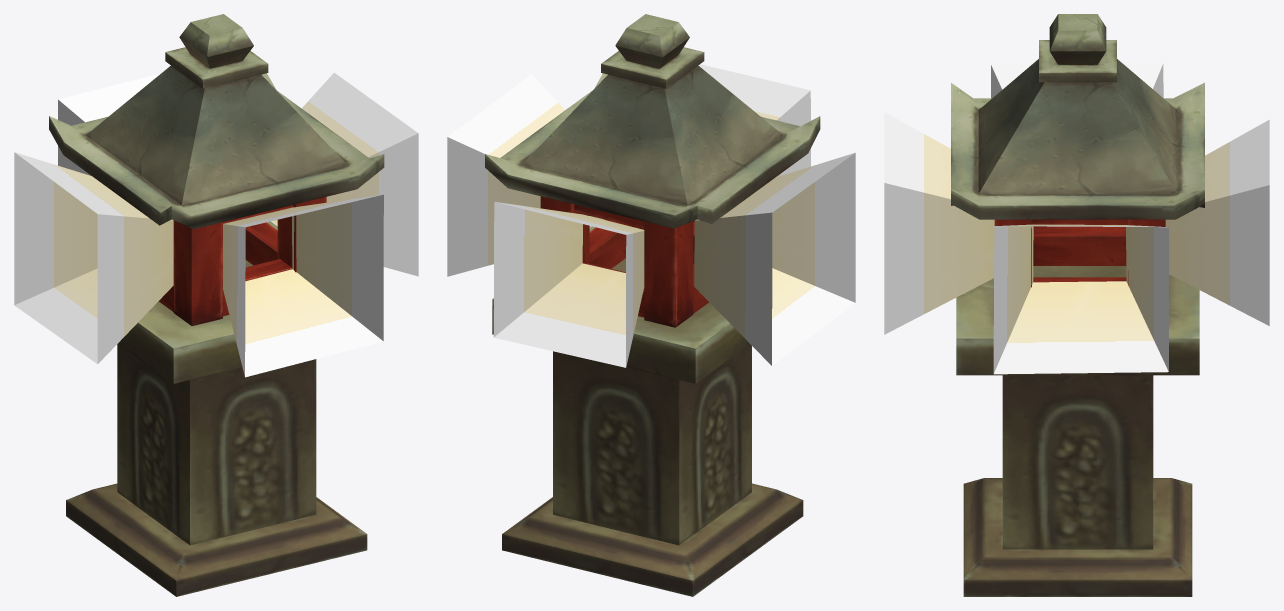
File: shideng1.FBX
3 views of the same model, side by side, from view 1: azimuth 30°, elevation 25°; view 2: azimuth 150°, elevation 25°; view 3: azimuth 270°, elevation 25° (orthographic). The views are drawn at different scales.
Visible parts, largest first — view 1: shideng, yuanta_light; view 2: shideng, yuanta_light; view 3: shideng, yuanta_light.
Boxes of the visible parts, box(x1,y1,x2,y2) form: shideng: box(49, 14, 384, 596); yuanta_light: box(14, 72, 418, 377); shideng: box(485, 14, 820, 596); yuanta_light: box(447, 64, 855, 367); shideng: box(951, 14, 1204, 596); yuanta_light: box(884, 63, 1269, 374).
Bounding box in the file's own units: 6.2 × 6.2 × 9.35.
